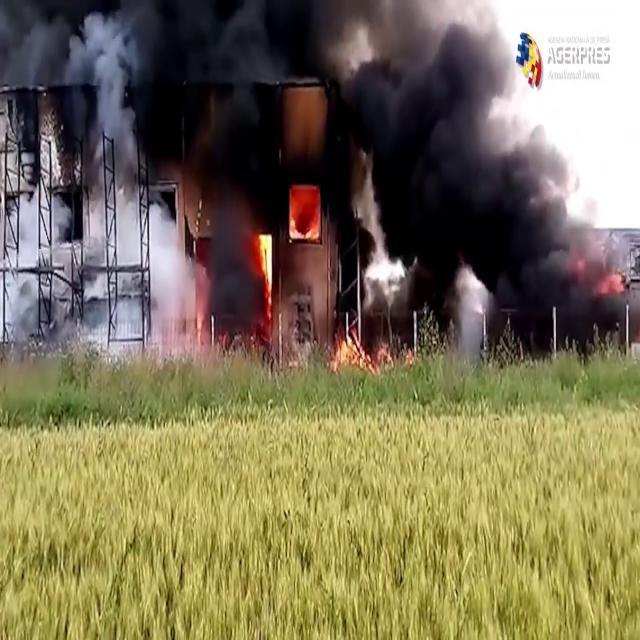Fire: (250, 222, 276, 317)
Smoke: (332, 1, 616, 347), (0, 0, 226, 368)
